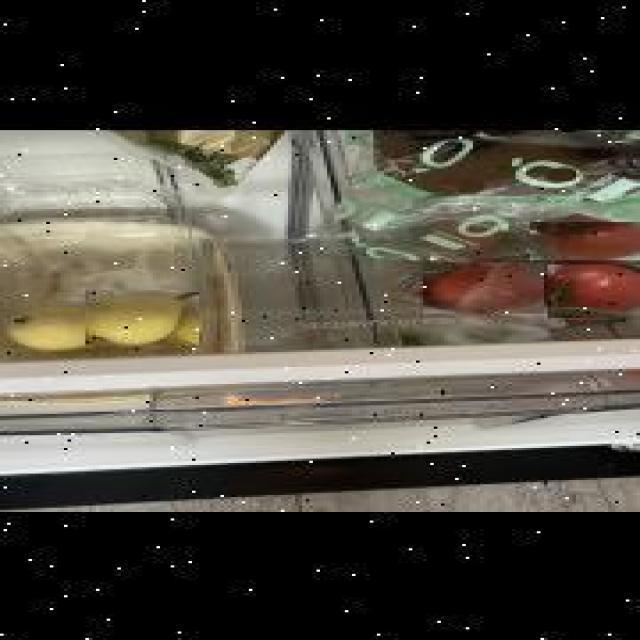pear: (85, 288, 199, 344), (7, 303, 121, 350)
tomato: (423, 260, 544, 310), (402, 217, 508, 266), (547, 262, 640, 315), (530, 220, 640, 258)
